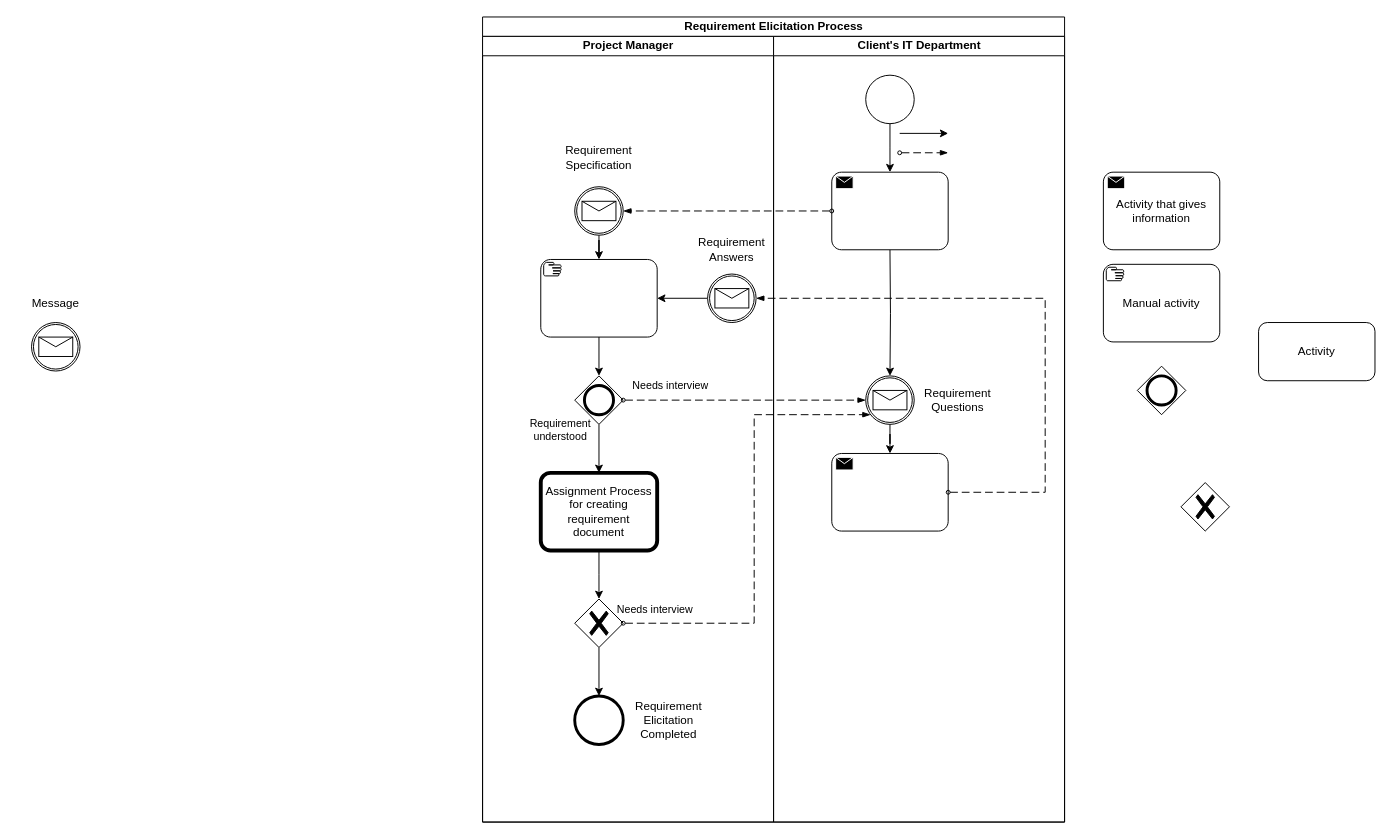
Image size: 1392x839. Some labels were removed from this diagram. The centre of each missing label's shape, as x and y in pixels:
Analyse Requirement: the point at 598,298
Anwers Requirement Questions: the point at 889,492
Explaining Big Picture Requirement: the point at 889,210
